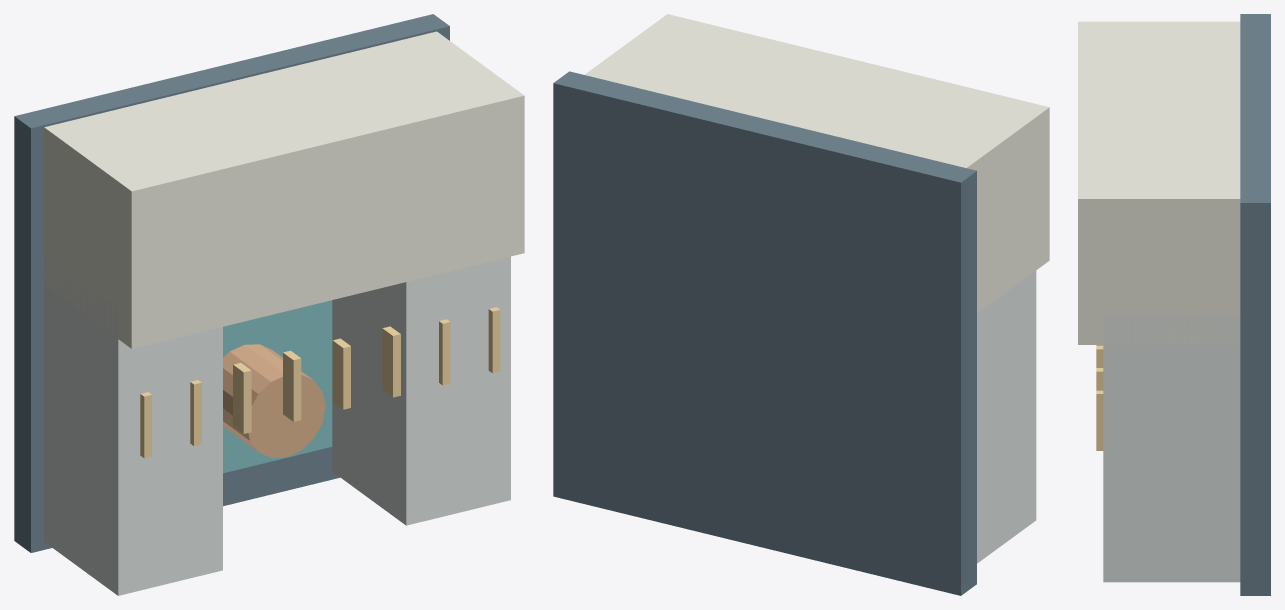
The model's file is courtyard.glb.
The picture shows the model from 3 angles, left to right: view 1: azimuth 30°, elevation 25°; view 2: azimuth 150°, elevation 25°; view 3: azimuth 270°, elevation 25°; orthographic projection. The views are drawn at different scales.
Visible parts, largest first — view 1: north-wing, west-wing, east-wing, foundation, water-court, courtyard-sculpture, pergola-2, pergola-3, pergola-4, pergola-5, pergola-7, pergola-0 (+2 smaller); view 2: foundation, north-wing, west-wing; view 3: north-wing, east-wing, foundation, pergola-7.
Part boxes in pixels (box(x1,y1,x2,y2)): north-wing: box(44, 31, 524, 348); west-wing: box(44, 254, 222, 595); east-wing: box(332, 256, 510, 525); foundation: box(14, 14, 449, 552); water-court: box(223, 300, 332, 473); courtyard-sculpture: box(223, 344, 325, 457); pergola-2: box(233, 363, 251, 433); pergola-3: box(283, 350, 301, 421); pergola-4: box(332, 338, 350, 409); pergola-5: box(382, 326, 400, 397); pergola-7: box(488, 307, 500, 373); pergola-0: box(140, 392, 151, 458); foundation: box(553, 71, 976, 595); north-wing: box(584, 14, 1049, 313); west-wing: box(977, 271, 1036, 563); north-wing: box(1078, 21, 1240, 344); east-wing: box(1103, 316, 1240, 582); foundation: box(1240, 14, 1270, 595); pergola-7: box(1096, 390, 1103, 450).
Bounding box in the file's own units: 3.2 × 3.1 × 1.38.
